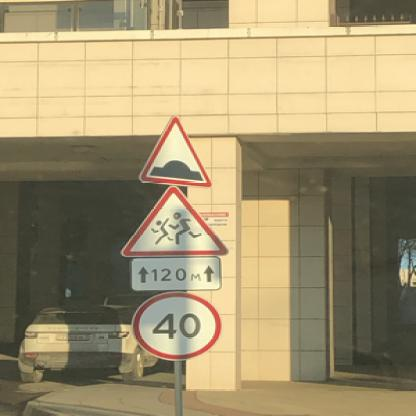Speed Limit 40: (136, 292, 220, 358)
